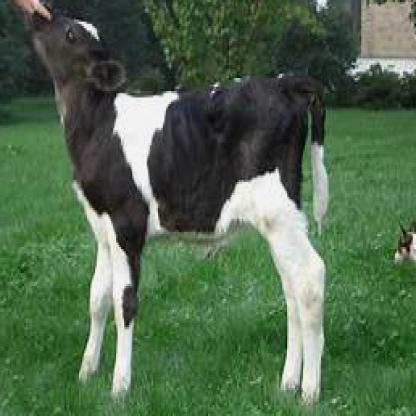cat: (394, 214, 414, 290)
cow: (20, 5, 332, 406)
